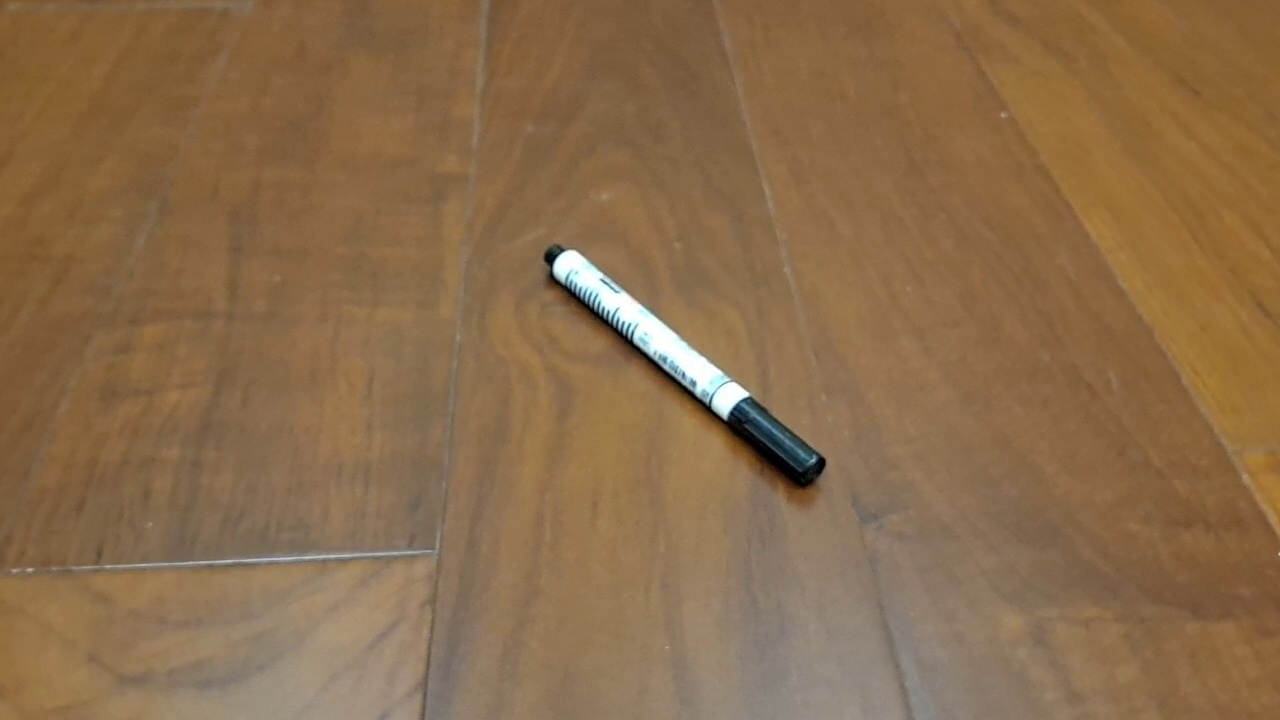pen: (541, 243, 826, 488)
